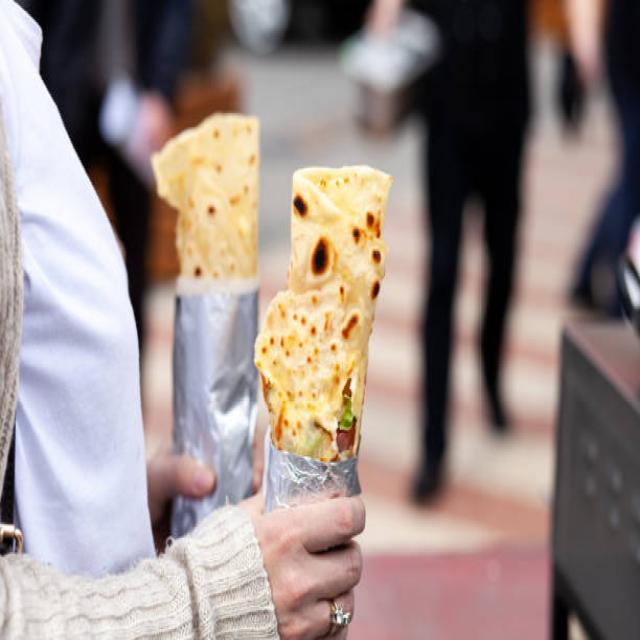Emperan: (0, 34, 485, 638)
